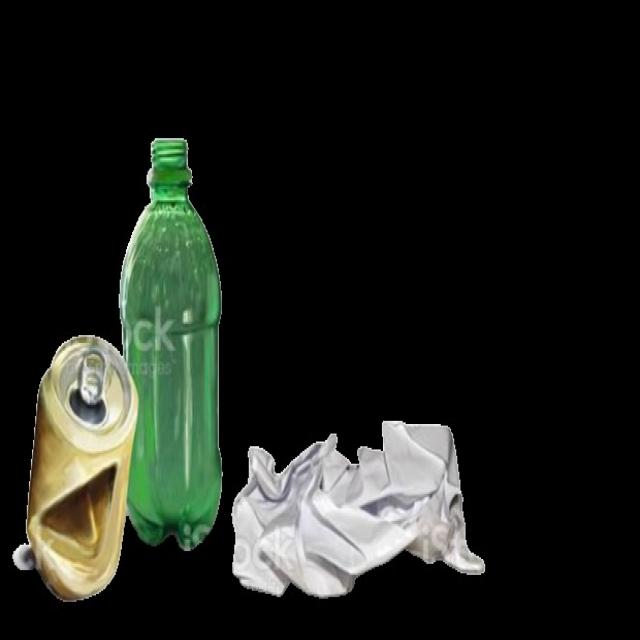dry: (229, 420, 486, 626), (122, 139, 227, 552), (30, 335, 135, 602)
